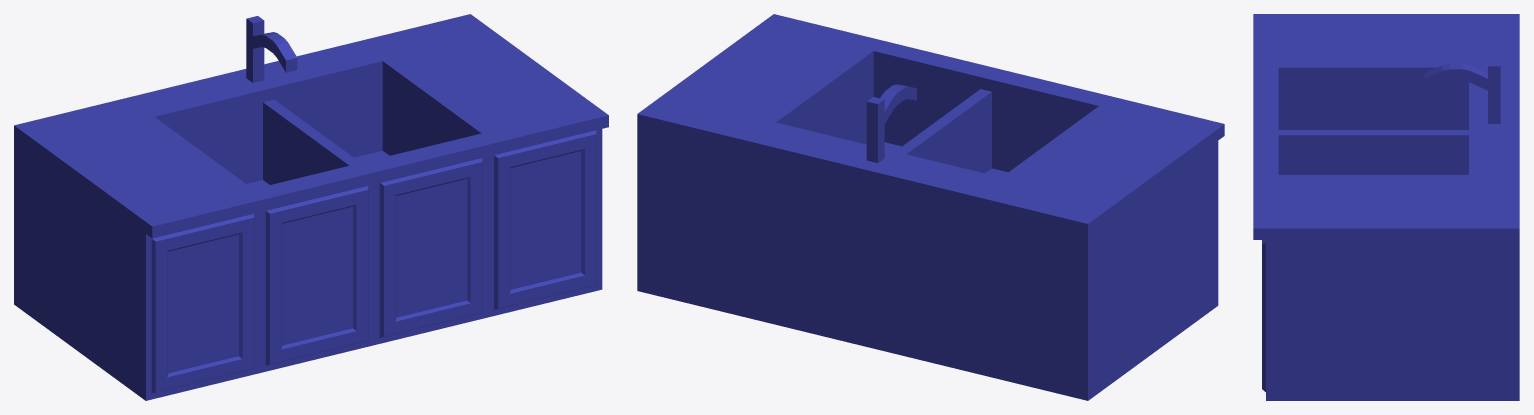
File: sink_2x1-5x2.FBX
The picture shows the model from 3 angles, left to right: view 1: azimuth 30°, elevation 25°; view 2: azimuth 150°, elevation 25°; view 3: azimuth 270°, elevation 25°; orthographic projection. The views are drawn at different scales.
Parts seen in each view (by area): view 1: sink_wood, sink_marble, sink_metal, sink_faucet; view 2: sink_wood, sink_marble, sink_metal, sink_faucet; view 3: sink_wood, sink_marble, sink_metal, sink_faucet.
Boxes of the visible parts, x1,y1,x2,y2 form: sink_wood: [14, 129, 602, 400]; sink_marble: [14, 14, 608, 238]; sink_metal: [167, 73, 468, 188]; sink_faucet: [246, 16, 297, 82]; sink_wood: [637, 126, 1218, 400]; sink_marble: [637, 14, 1224, 235]; sink_metal: [788, 63, 1086, 177]; sink_faucet: [866, 84, 916, 162]; sink_wood: [1262, 240, 1519, 400]; sink_marble: [1253, 14, 1519, 239]; sink_metal: [1278, 79, 1468, 174]; sink_faucet: [1424, 61, 1500, 123].
Bounding box in the file's own units: 4 × 2 × 2.1.
